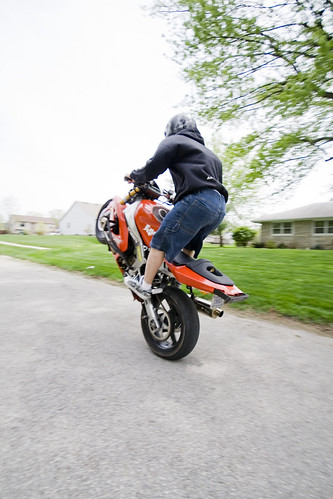helmet: (150, 109, 200, 137)
